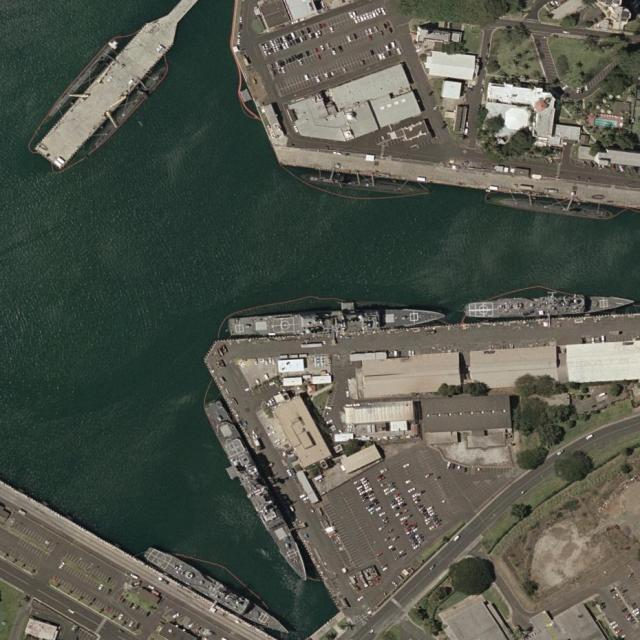Cruiser: (204, 400, 314, 584), (228, 301, 445, 339)
Dock: (37, 8, 184, 171)
Frigate: (140, 542, 289, 637), (467, 291, 633, 320)
Submarine: (89, 65, 168, 152), (47, 41, 114, 118), (489, 195, 614, 220), (301, 174, 427, 195)
